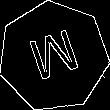M_S: (24, 25, 84, 88)
